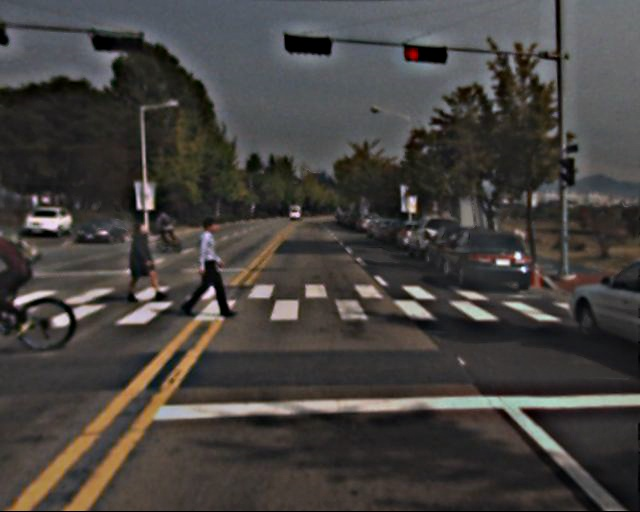person: (189, 217, 232, 316), (127, 217, 162, 302)
